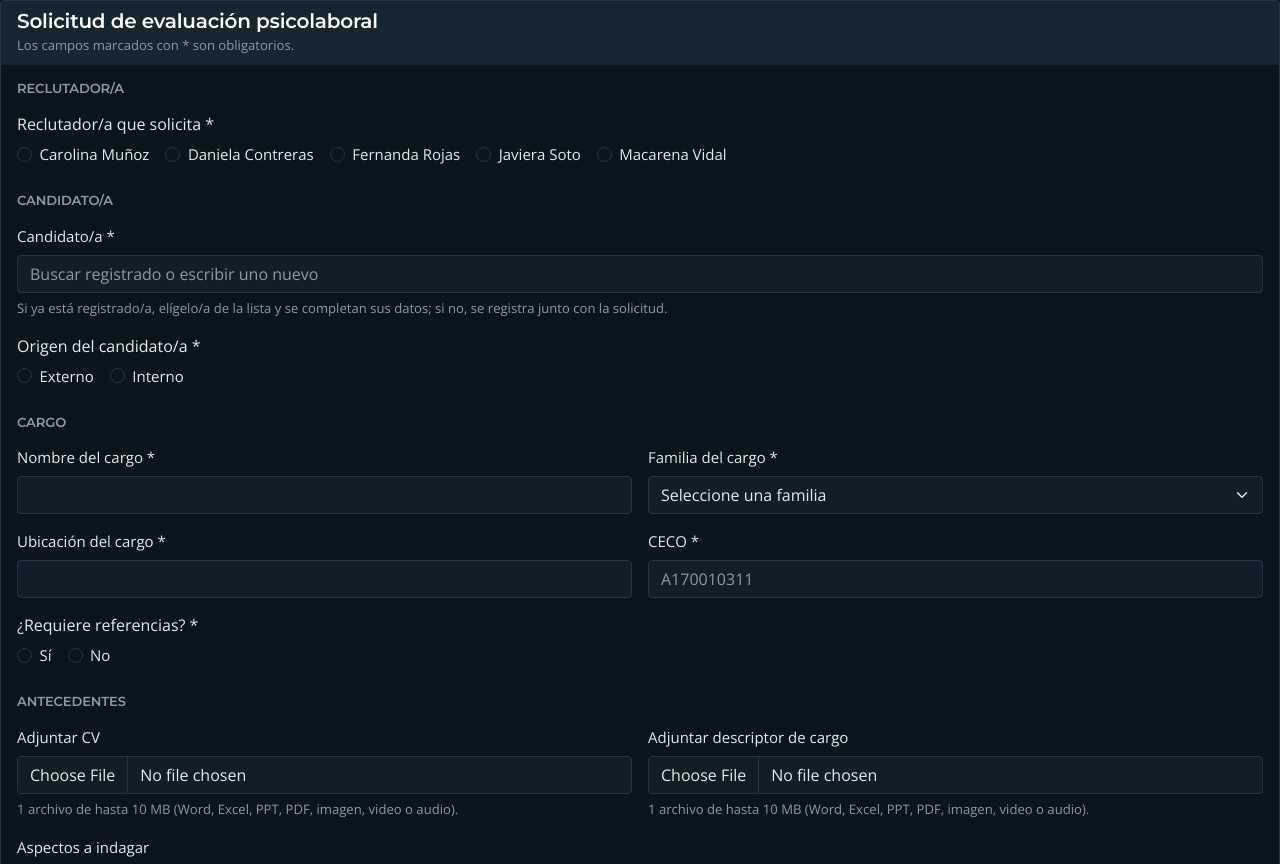
Scenario: FormularioSolicitud › completa la unidad según la ubicación
Type "Planta Calbuco" into the field labelled "Ubicación del cargo *".
click(324, 579); type("Planta Calbuco")  # box [17,560,632,598]
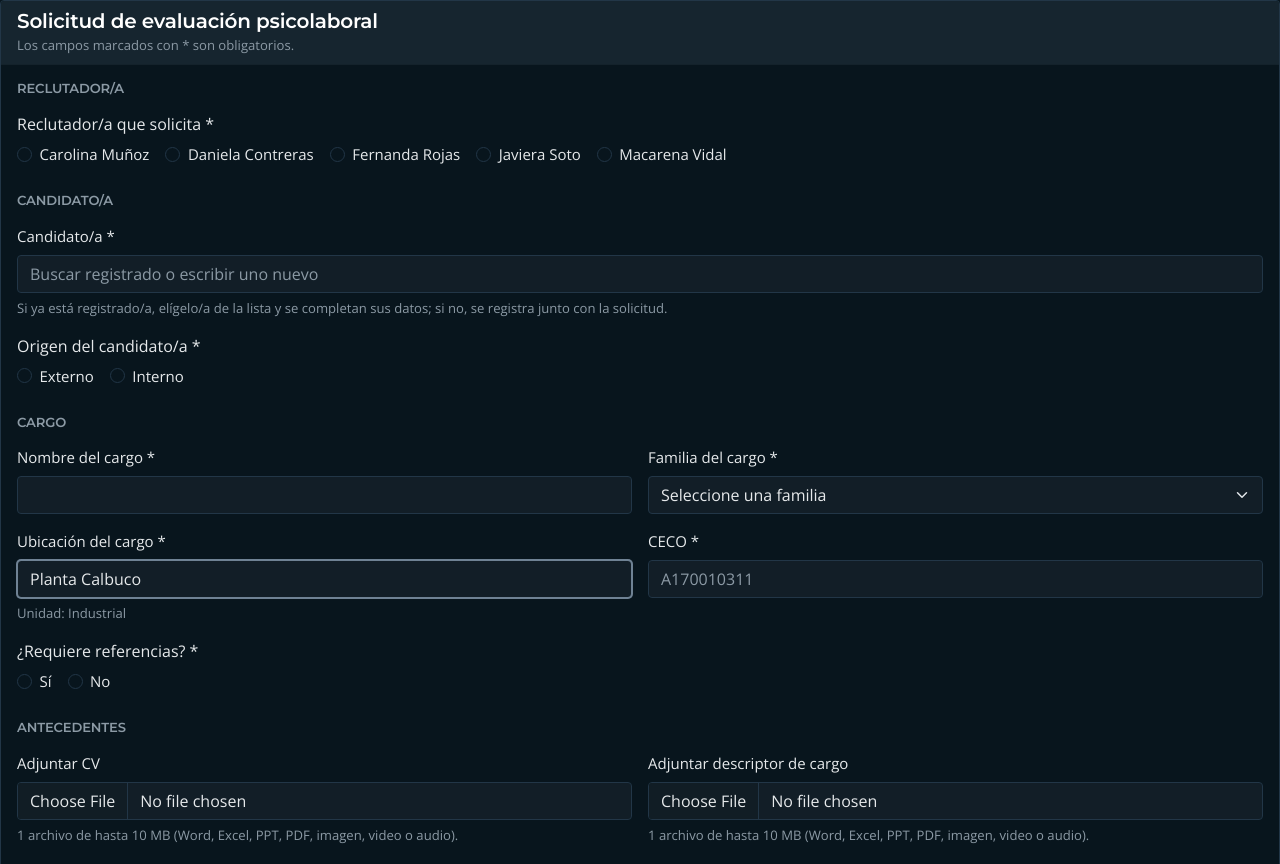
expect the text "Unidad: Industrial" is shown: met, box [17,604,126,622]
